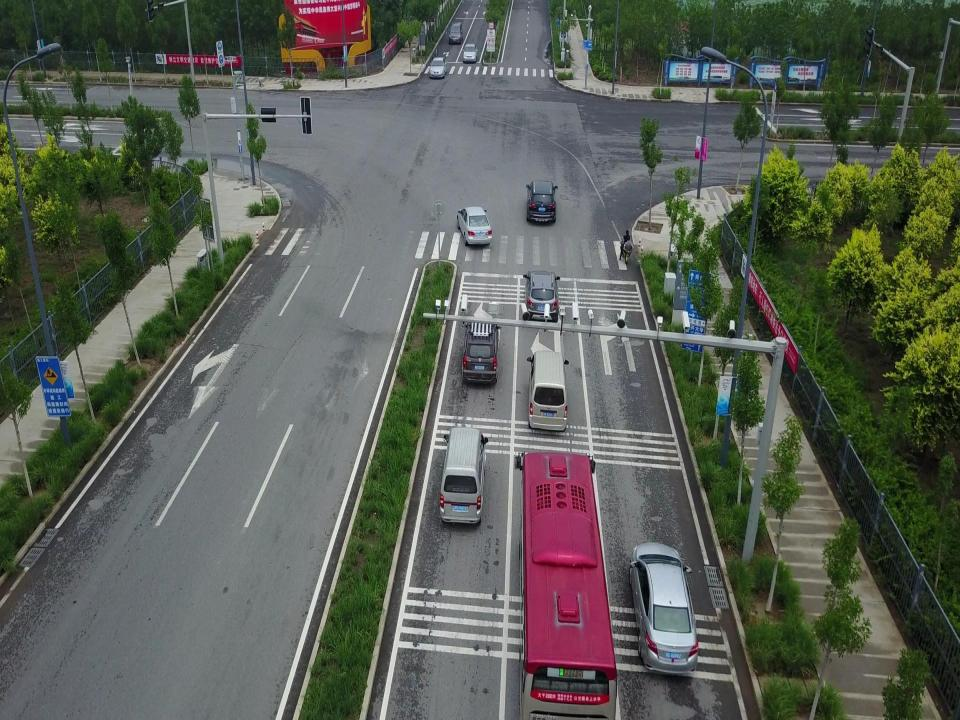bus: (515, 450, 617, 720)
car: (630, 541, 698, 676), (456, 207, 492, 245), (429, 57, 447, 78), (462, 43, 478, 63)
van: (439, 427, 489, 525), (526, 351, 569, 432), (461, 318, 502, 385), (524, 271, 560, 322), (526, 180, 558, 224), (449, 22, 463, 45)
